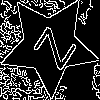Z: (24, 20, 77, 71)
